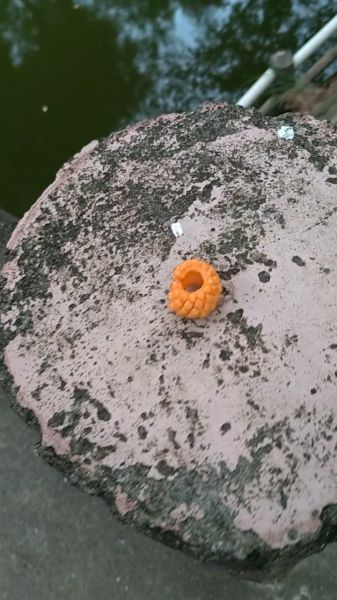eggs: (165, 257, 227, 318)
